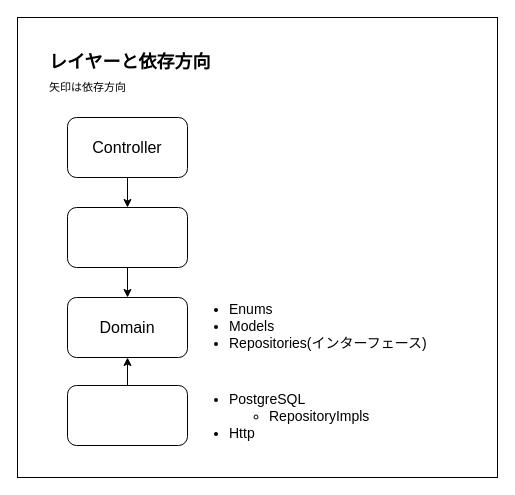
This 515x495 diagram has some shape labels left out. Here are the shapes that lost their labels. From the top down, the centre of each, then its label:
At pixel 127 237: "Usecase".
At pixel 127 415: "Infrastructure".
